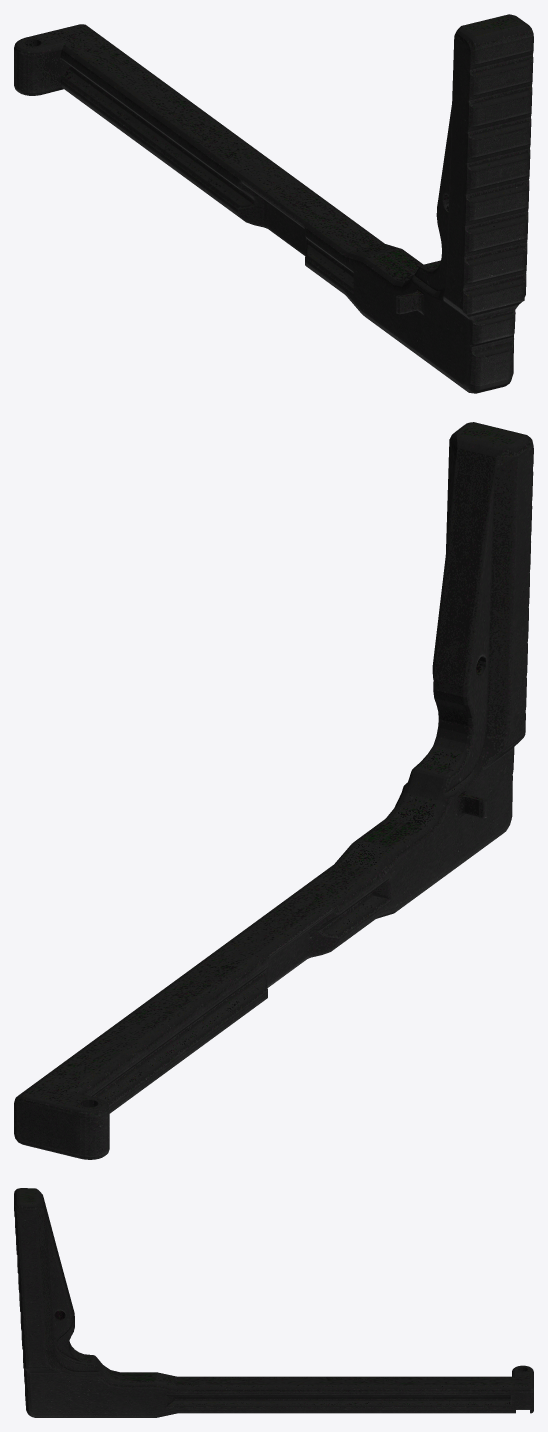
The picture shows the model from 3 angles, top to bottom: view 1: azimuth 30°, elevation 25°; view 2: azimuth 150°, elevation 25°; view 3: azimuth 270°, elevation 25°; orthographic projection. The views are drawn at different scales.
Parts seen in each view (by area): view 1: TW_5de910da8b6c4240ba2651b5_PZ_Import; view 2: TW_5de910da8b6c4240ba2651b5_PZ_Import; view 3: TW_5de910da8b6c4240ba2651b5_PZ_Import.
Part boxes in pixels (x1=…): TW_5de910da8b6c4240ba2651b5_PZ_Import: x1=14, y1=14, x2=533, y2=393; TW_5de910da8b6c4240ba2651b5_PZ_Import: x1=14, y1=422, x2=533, y2=1159; TW_5de910da8b6c4240ba2651b5_PZ_Import: x1=14, y1=1188, x2=533, y2=1417.
Size of the model in its own units: 0.0172 by 0.1453 by 0.0671.
Materials: 1 (1 with a texture image).
